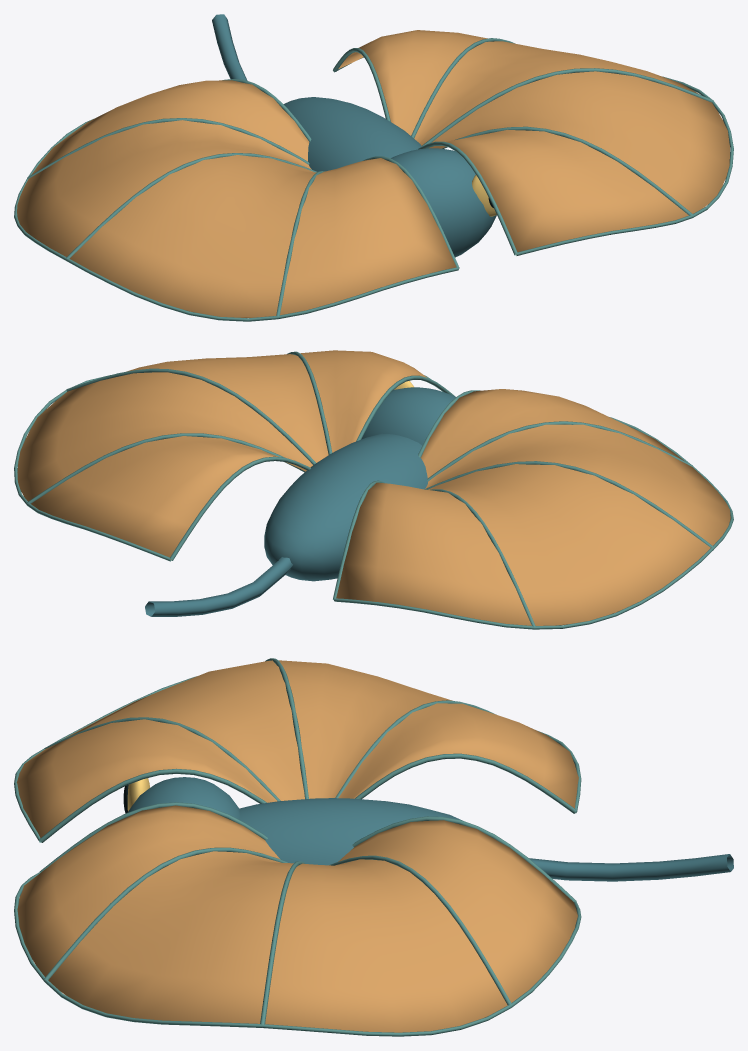
Rendered from sail.glb.
3 renders of one model, top to bottom at view 1: azimuth 30°, elevation 25°; view 2: azimuth 150°, elevation 25°; view 3: azimuth 270°, elevation 25°, orthographic. The views are drawn at different scales.
Parts seen in each view (by area): view 1: Warm translucent sail membrane, Sail creature • indigo hide, Sail ribs; view 2: Warm translucent sail membrane, Sail creature • indigo hide, Sail ribs; view 3: Warm translucent sail membrane, Sail ribs, Sail creature • indigo hide.
Part boxes in pixels (x1,y1,x2,y2): Warm translucent sail membrane: [17, 30, 729, 317]; Sail creature • indigo hide: [212, 14, 496, 257]; Sail ribs: [14, 38, 733, 321]; Warm translucent sail membrane: [17, 350, 730, 625]; Sail creature • indigo hide: [145, 387, 455, 616]; Sail ribs: [14, 351, 733, 629]; Warm translucent sail membrane: [16, 660, 578, 1032]; Sail ribs: [14, 658, 581, 1036]; Sail creature • indigo hide: [127, 777, 733, 881].
Bounding box in the file's own units: 0.843 × 0.1482 × 0.7059.
